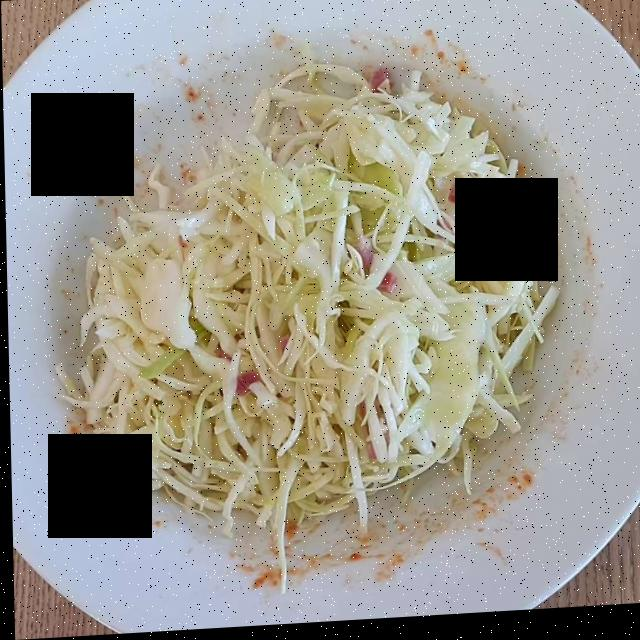white-cabbage: (72, 71, 545, 571)
